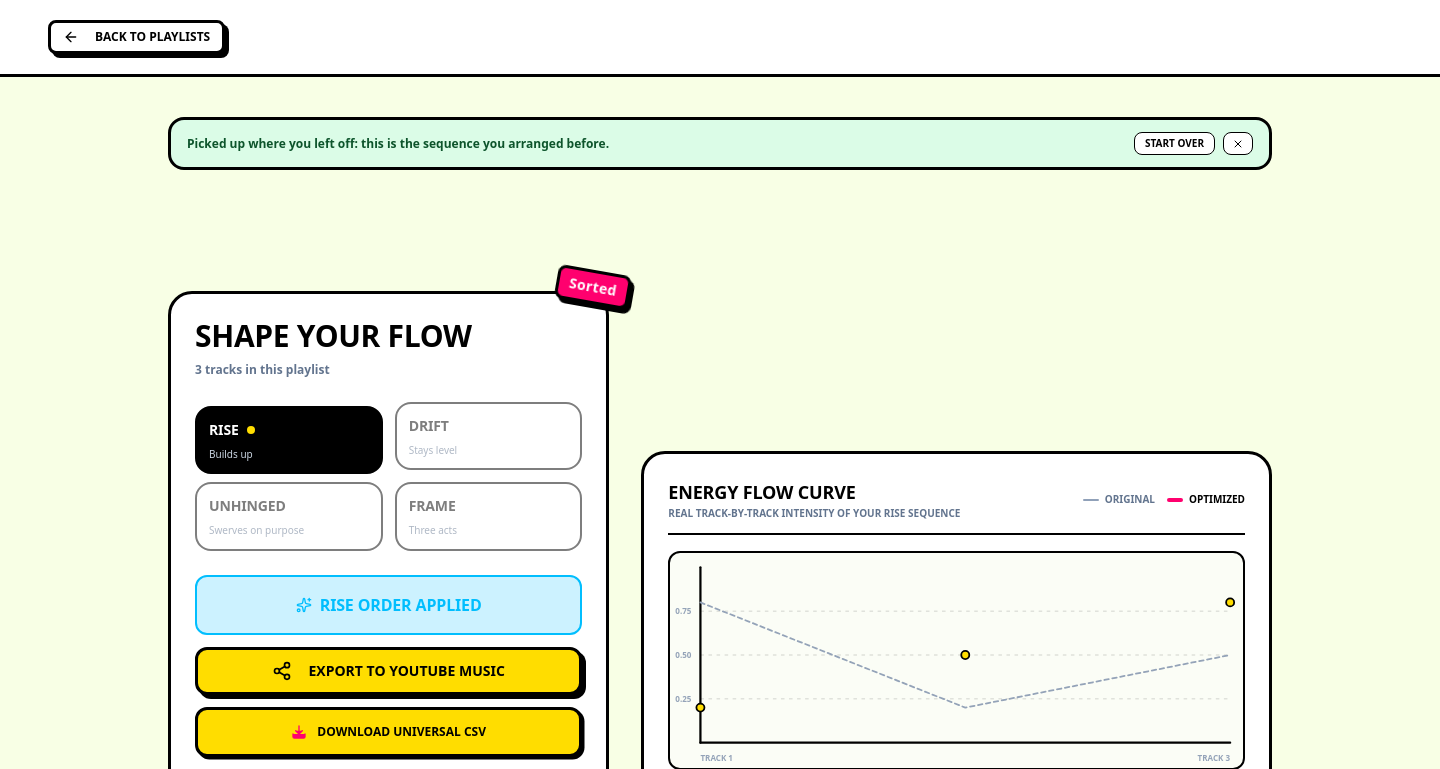
Test: playlist page keeps the arranged sequence across a reconnect › forgets the saved sequence when the visitor starts over
Click the button "Start over": (1174, 144) [1134,132,1215,155]
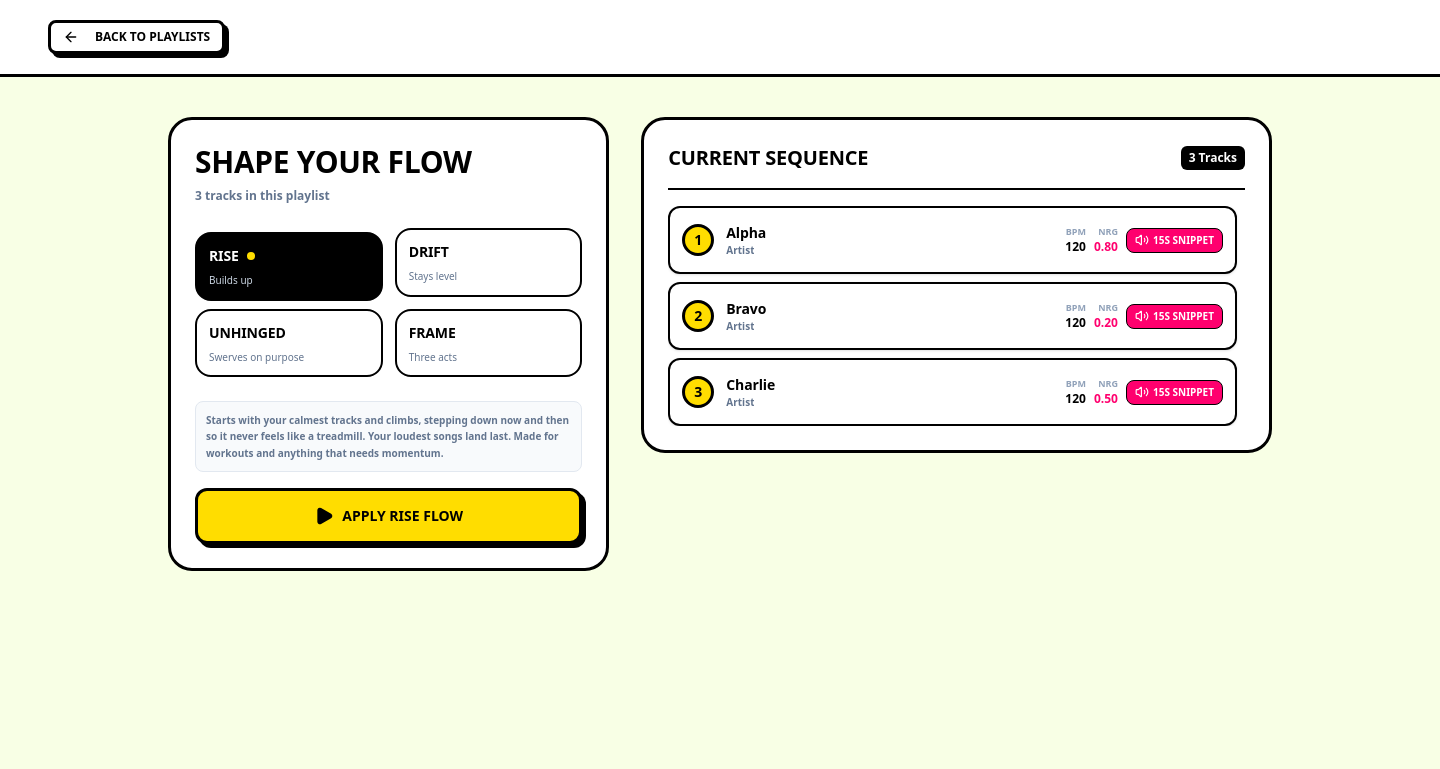
expect the text "Picked up where you left off" is gone: met
